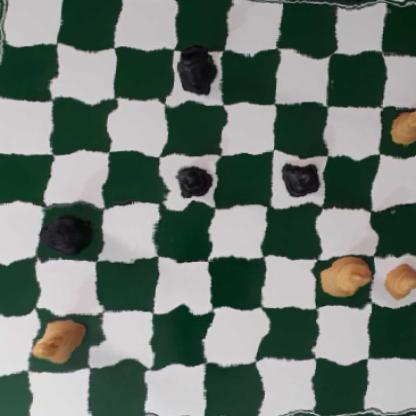black-king: (174, 40, 222, 98)
black-pawn: (274, 156, 324, 201), (166, 159, 210, 202)
black-rook: (32, 214, 95, 255)
white-bishop: (27, 310, 87, 364)
white-king: (318, 258, 374, 301)
white-pawn: (384, 263, 416, 296)
white-rook: (386, 103, 416, 147)
